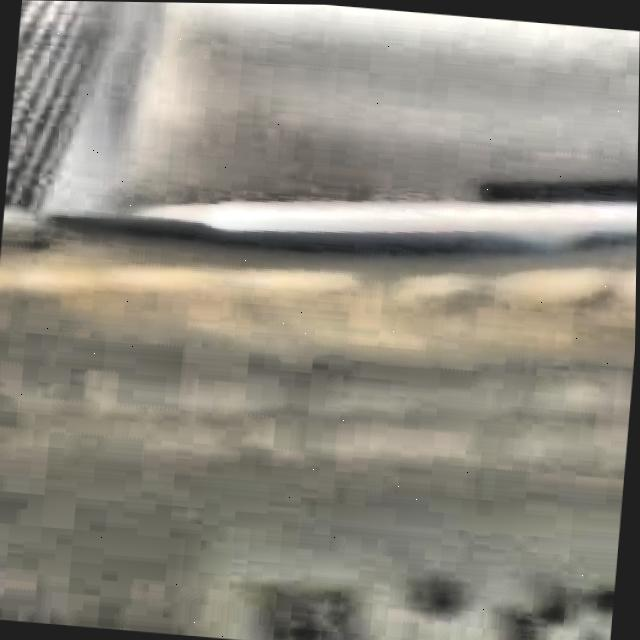metal: (0, 92, 639, 640)
